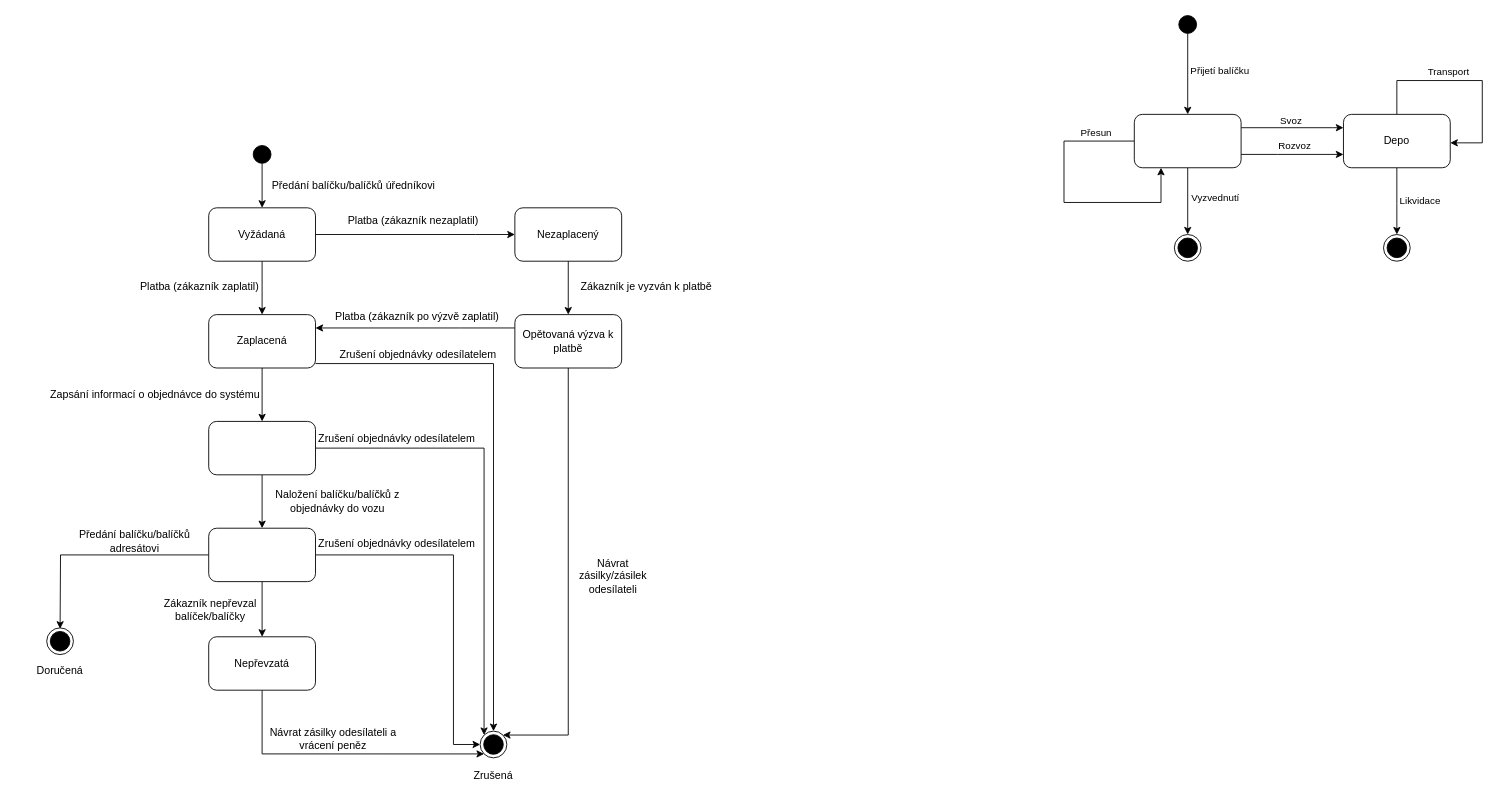
Image size: 1505x805. Some labels were removed from this diagram. Each missing label, with the centre of its shape:
Odeslaná: (x=262, y=554)
Pobočka: (x=1187, y=140)
Vytvořená: (x=262, y=448)
